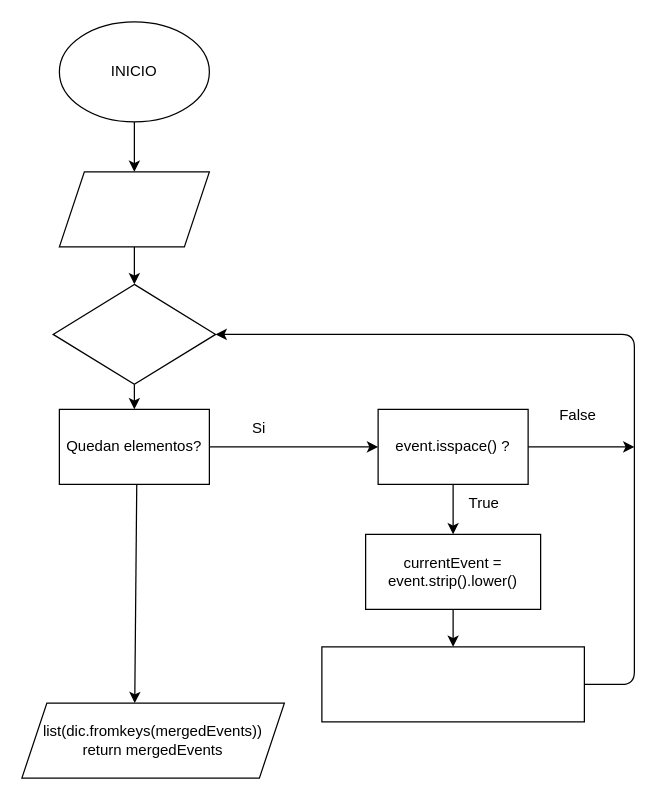
The diagram is 666 pixels wide and 800 high, and some of its shapes have lost their labels. The centre of each missing label's shape, as x and y in pixels:
"Iniciar ciclo for" goes at [134,333].
"mergedEvents.append(currentEvent)" goes at [452,684].
"recibir eventos declarar mergedEvents" goes at [133,209].
